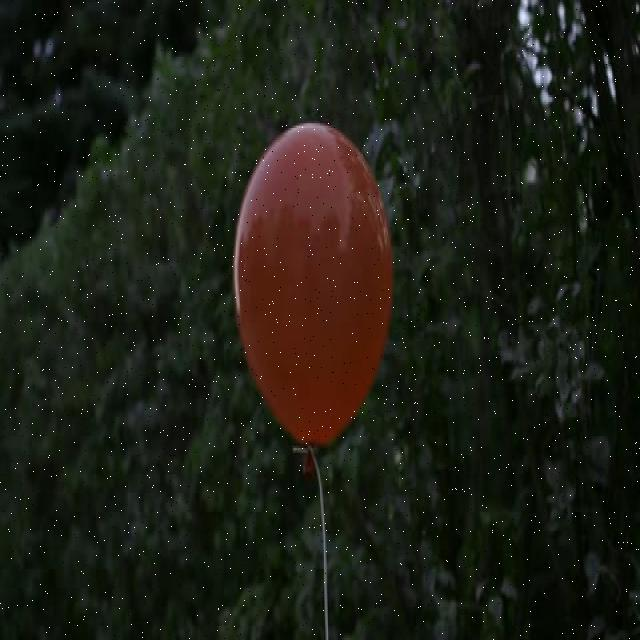red: (232, 120, 394, 461)
